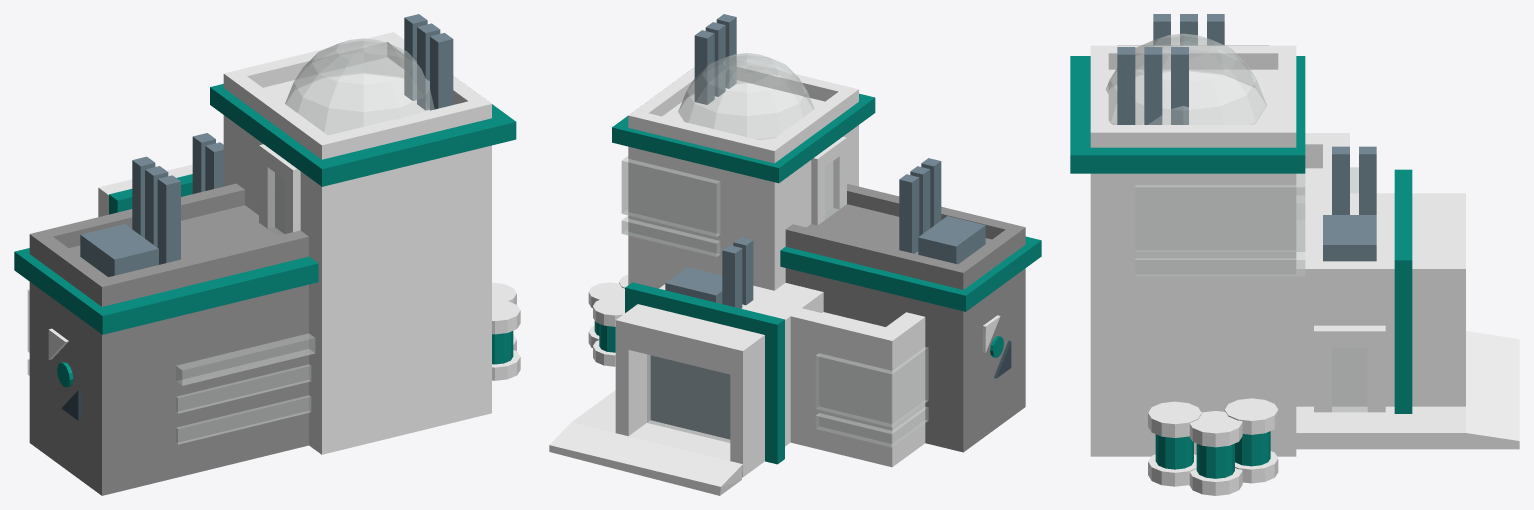
File: station.glb
3 views of the same model, side by side, from view 1: azimuth 30°, elevation 25°; view 2: azimuth 150°, elevation 25°; view 3: azimuth 270°, elevation 25° (orthographic). The views are drawn at different scales.
Parts seen in each view (by area): view 1: group1402583281, group614560715, group1218104621, group1823136938, group343389326, group1997347060, group1718686358, group1508717350, group1876434331, group2085792972, group294133251, group1040198484 (+18 smaller); view 2: group1402583281, group614560715, group1112950535, group1218104621, group1756934309, group649567342, group1639621080, group1709219638, group850026794, group734234387, group905428687, group2003159481 (+33 smaller); view 3: group1402583281, group1009672793, group1709219638, group1218104621, group1414072689, group804107908, group1196670224, group1756934309, group1978662358, group465900982, group568287060, group1929477936 (+22 smaller).
Part boxes in pixels (bbox=[...]): group1402583281: bbox=[223, 57, 491, 454]; group614560715: bbox=[29, 205, 308, 495]; group1218104621: bbox=[285, 38, 434, 135]; group1823136938: bbox=[111, 256, 318, 330]; group343389326: bbox=[93, 230, 308, 302]; group1997347060: bbox=[329, 119, 499, 182]; group1718686358: bbox=[223, 32, 401, 93]; group1508717350: bbox=[328, 101, 476, 155]; group1876434331: bbox=[219, 92, 338, 186]; group2085792972: bbox=[259, 144, 300, 235]; group294133251: bbox=[29, 183, 244, 255]; group1040198484: bbox=[176, 333, 314, 385]; group1402583281: bbox=[628, 80, 858, 290]; group614560715: bbox=[785, 204, 1025, 452]; group1112950535: bbox=[790, 312, 925, 467]; group1218104621: bbox=[678, 53, 814, 139]; group1756934309: bbox=[549, 422, 742, 495]; group649567342: bbox=[815, 347, 928, 427]; group1639621080: bbox=[647, 354, 729, 442]; group1709219638: bbox=[621, 156, 719, 236]; group850026794: bbox=[650, 355, 730, 439]; group734234387: bbox=[628, 307, 751, 374]; group905428687: bbox=[780, 246, 974, 311]; group2003159481: bbox=[730, 332, 764, 463]; group1402583281: bbox=[1090, 69, 1296, 456]; group1009672793: bbox=[1296, 193, 1394, 406]; group1709219638: bbox=[1135, 173, 1305, 251]; group1218104621: bbox=[1106, 33, 1266, 124]; group1414072689: bbox=[1412, 261, 1465, 406]; group804107908: bbox=[1296, 406, 1465, 449]; group1196670224: bbox=[1314, 325, 1385, 412]; group1756934309: bbox=[1466, 331, 1519, 449]; group1978662358: bbox=[1070, 146, 1284, 173]; group465900982: bbox=[1090, 125, 1278, 147]; group568287060: bbox=[1189, 411, 1242, 495]; group1929477936: bbox=[1135, 203, 1305, 276].
Bounding box in the file's own units: 0.6321 × 0.4839 × 0.5029.
